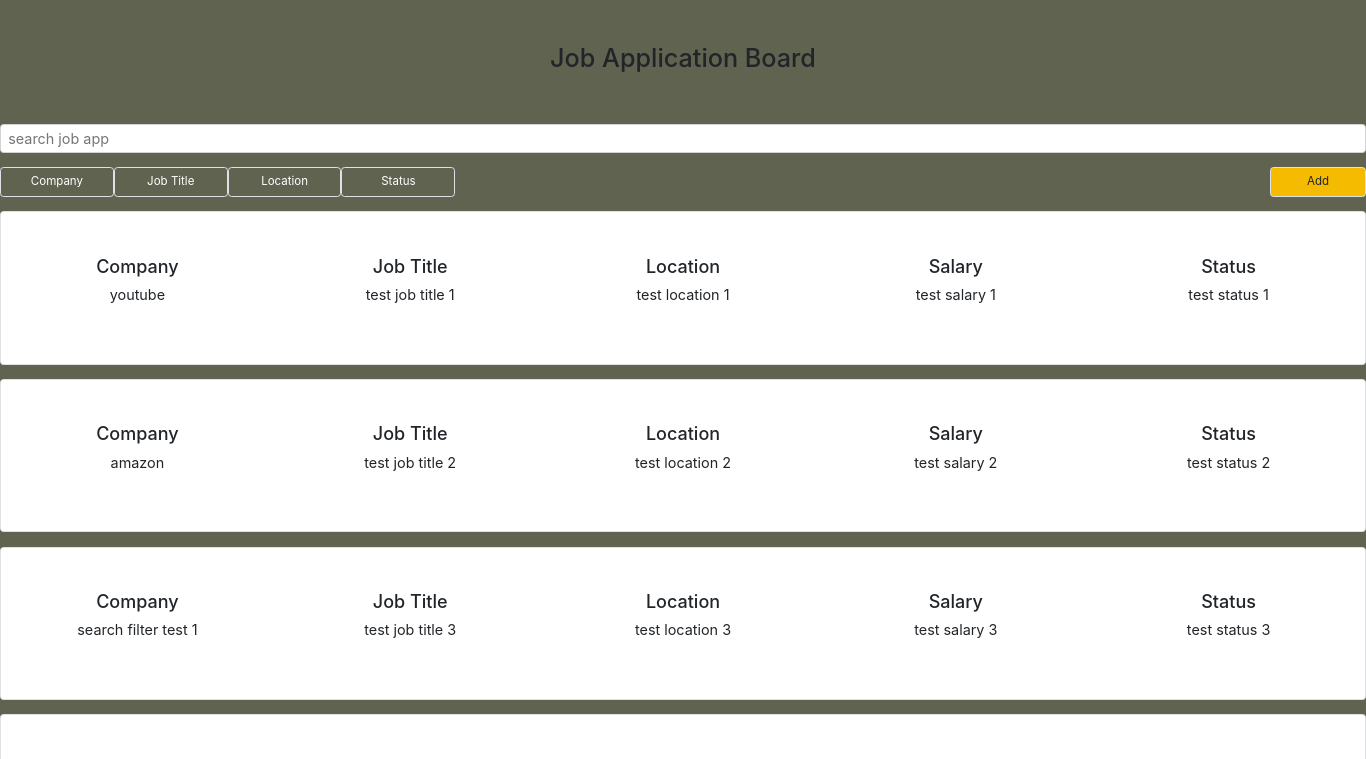
Test: filter buttons › should filter the job apps by company name in alphabetical order when clicked
The image size is (1366, 759).
Click the button with test id "company-type" at (57, 182), box [0,167,114,197]
(page scrolled)
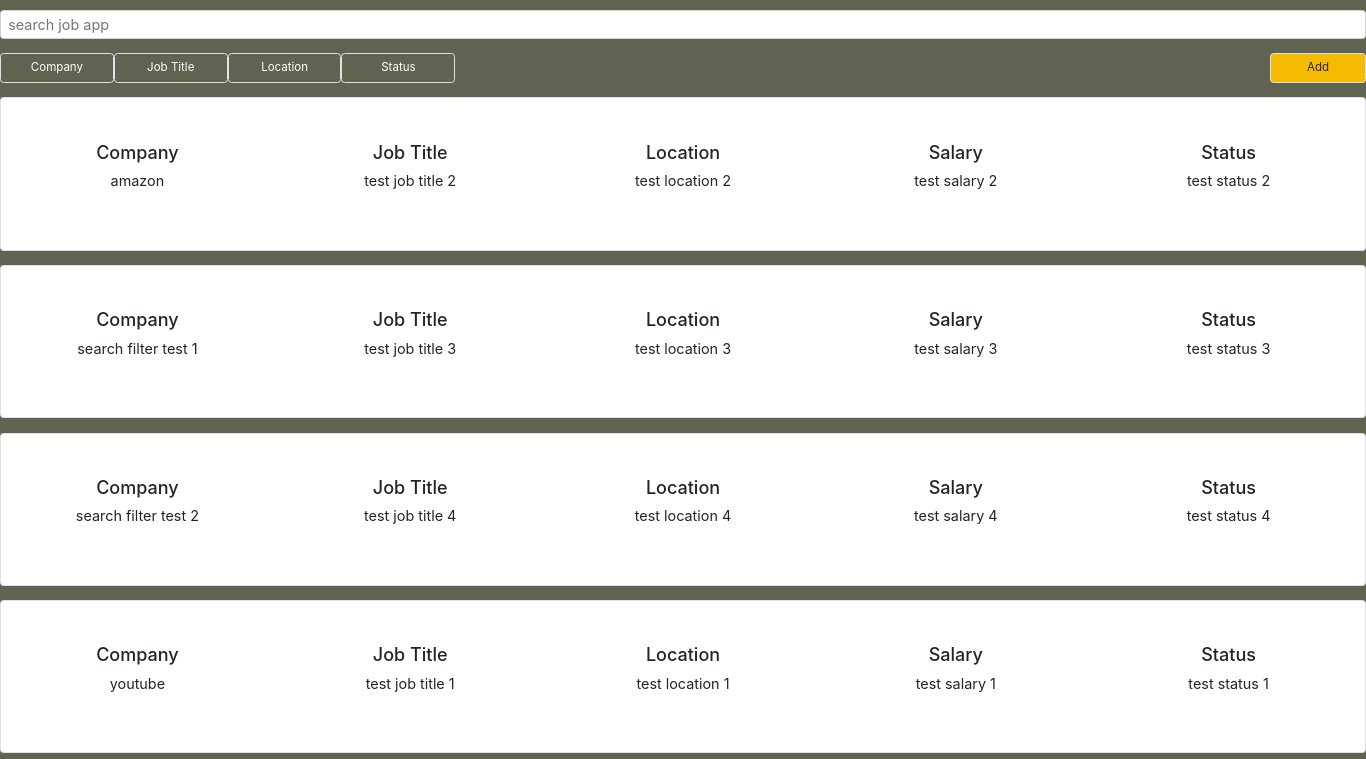
Now the text with test id "company-name" reads "amazon", box [111,172,164,189]
Now the text with test id "company-name" reads "search filter test 1", box [77,340,198,357]
Now the text with test id "company-name" reads "search filter test 2", box [76,508,199,524]
